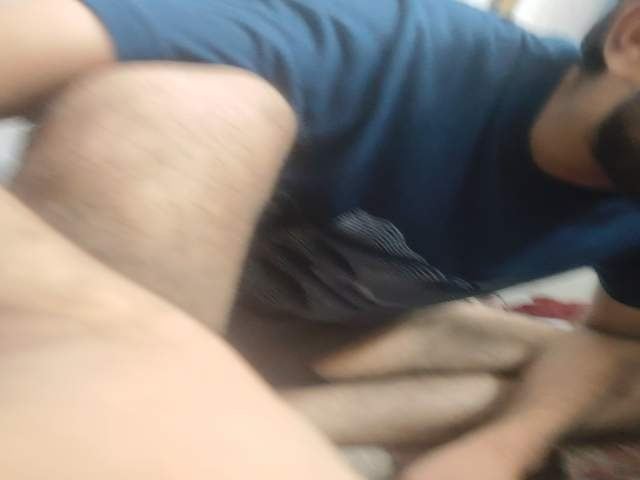pothole: (438, 311, 538, 391)
